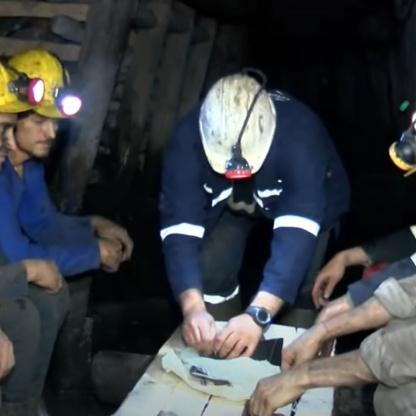helmet: (189, 70, 285, 187), (10, 44, 78, 169)
